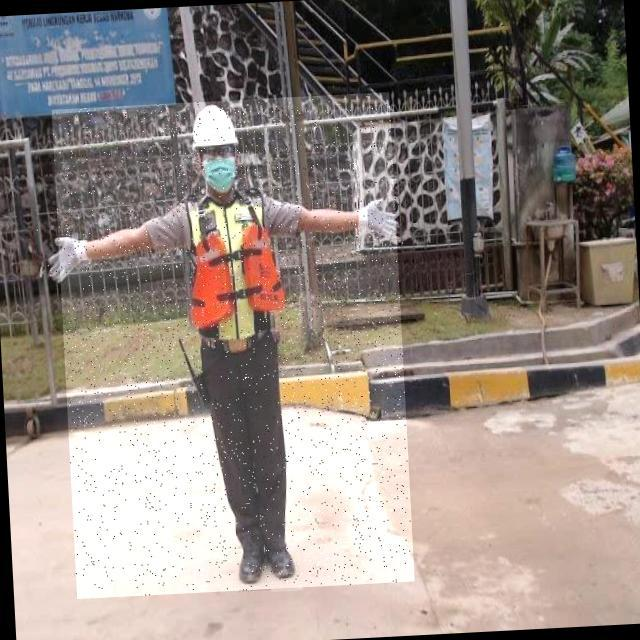Gloves: (45, 219, 101, 290), (355, 190, 409, 251)
Helmet: (183, 99, 245, 153)
Person: (38, 85, 423, 602)
Safety Boot: (268, 534, 303, 592), (236, 536, 272, 592)
Safety Vest: (172, 183, 292, 349)
